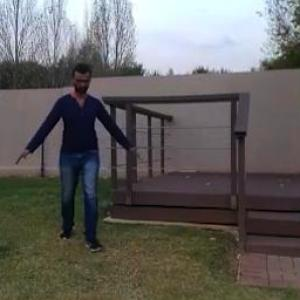land: (25, 54, 148, 266)
